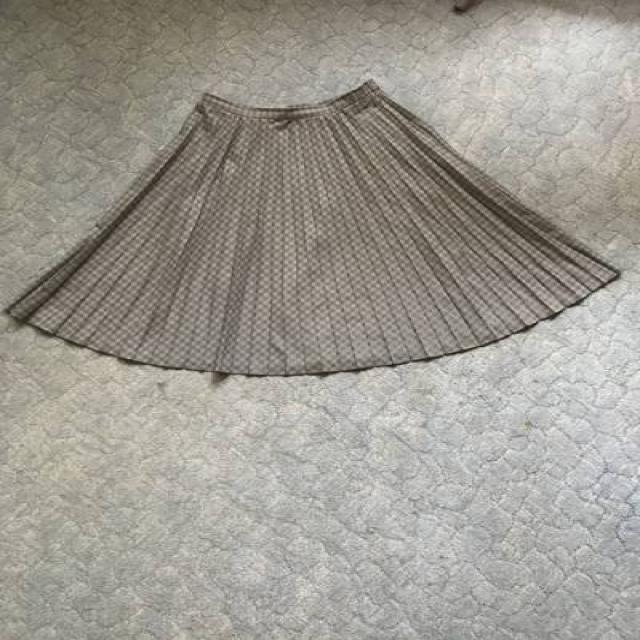Clothes -Biodegradable-: (2, 83, 620, 373)
